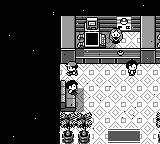main: (65, 61, 78, 76)
no-caminable: (0, 0, 159, 143), (60, 112, 92, 143), (76, 16, 106, 49), (141, 14, 156, 63), (61, 16, 75, 64), (107, 15, 140, 32), (76, 50, 109, 64), (125, 49, 141, 64), (156, 111, 160, 144)
npc: (108, 28, 124, 44), (126, 59, 139, 76), (66, 80, 78, 95)
puerta: (106, 129, 143, 143)
recuperarse: (109, 49, 125, 64)
